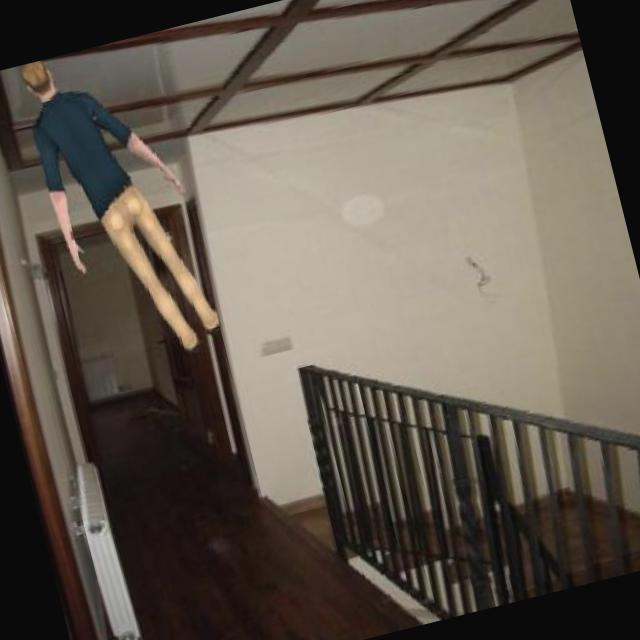Person: (16, 33, 230, 384)
